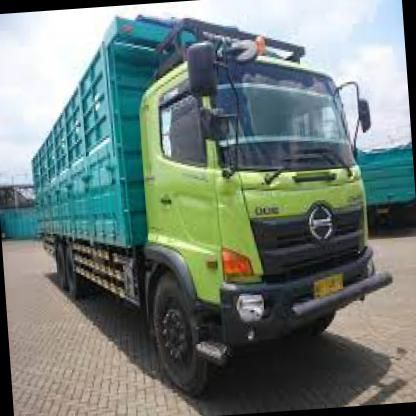truck: (129, 44, 386, 400)
